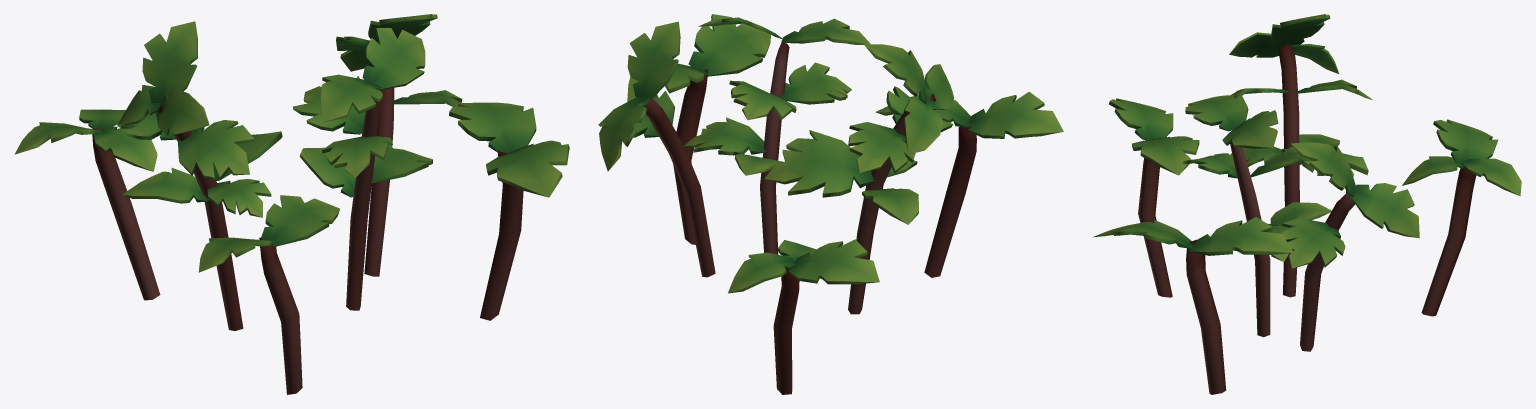
The model's file is SM_Plant_Raspberry_Lv1.fbx.
3 views of the same model, side by side, from view 1: azimuth 30°, elevation 25°; view 2: azimuth 150°, elevation 25°; view 3: azimuth 270°, elevation 25° (orthographic). The views are drawn at different scales.
Visible parts, largest first — view 1: SM_Plant_Raspberry_Lv1; view 2: SM_Plant_Raspberry_Lv1; view 3: SM_Plant_Raspberry_Lv1.
Part boxes in pixels (left/top/right/bottom): SM_Plant_Raspberry_Lv1: left=14, top=14, right=569, bottom=394; SM_Plant_Raspberry_Lv1: left=598, top=14, right=1063, bottom=394; SM_Plant_Raspberry_Lv1: left=1093, top=14, right=1521, bottom=394.
Size of the model in its own units: 35.64 by 28.35 by 38.11.
